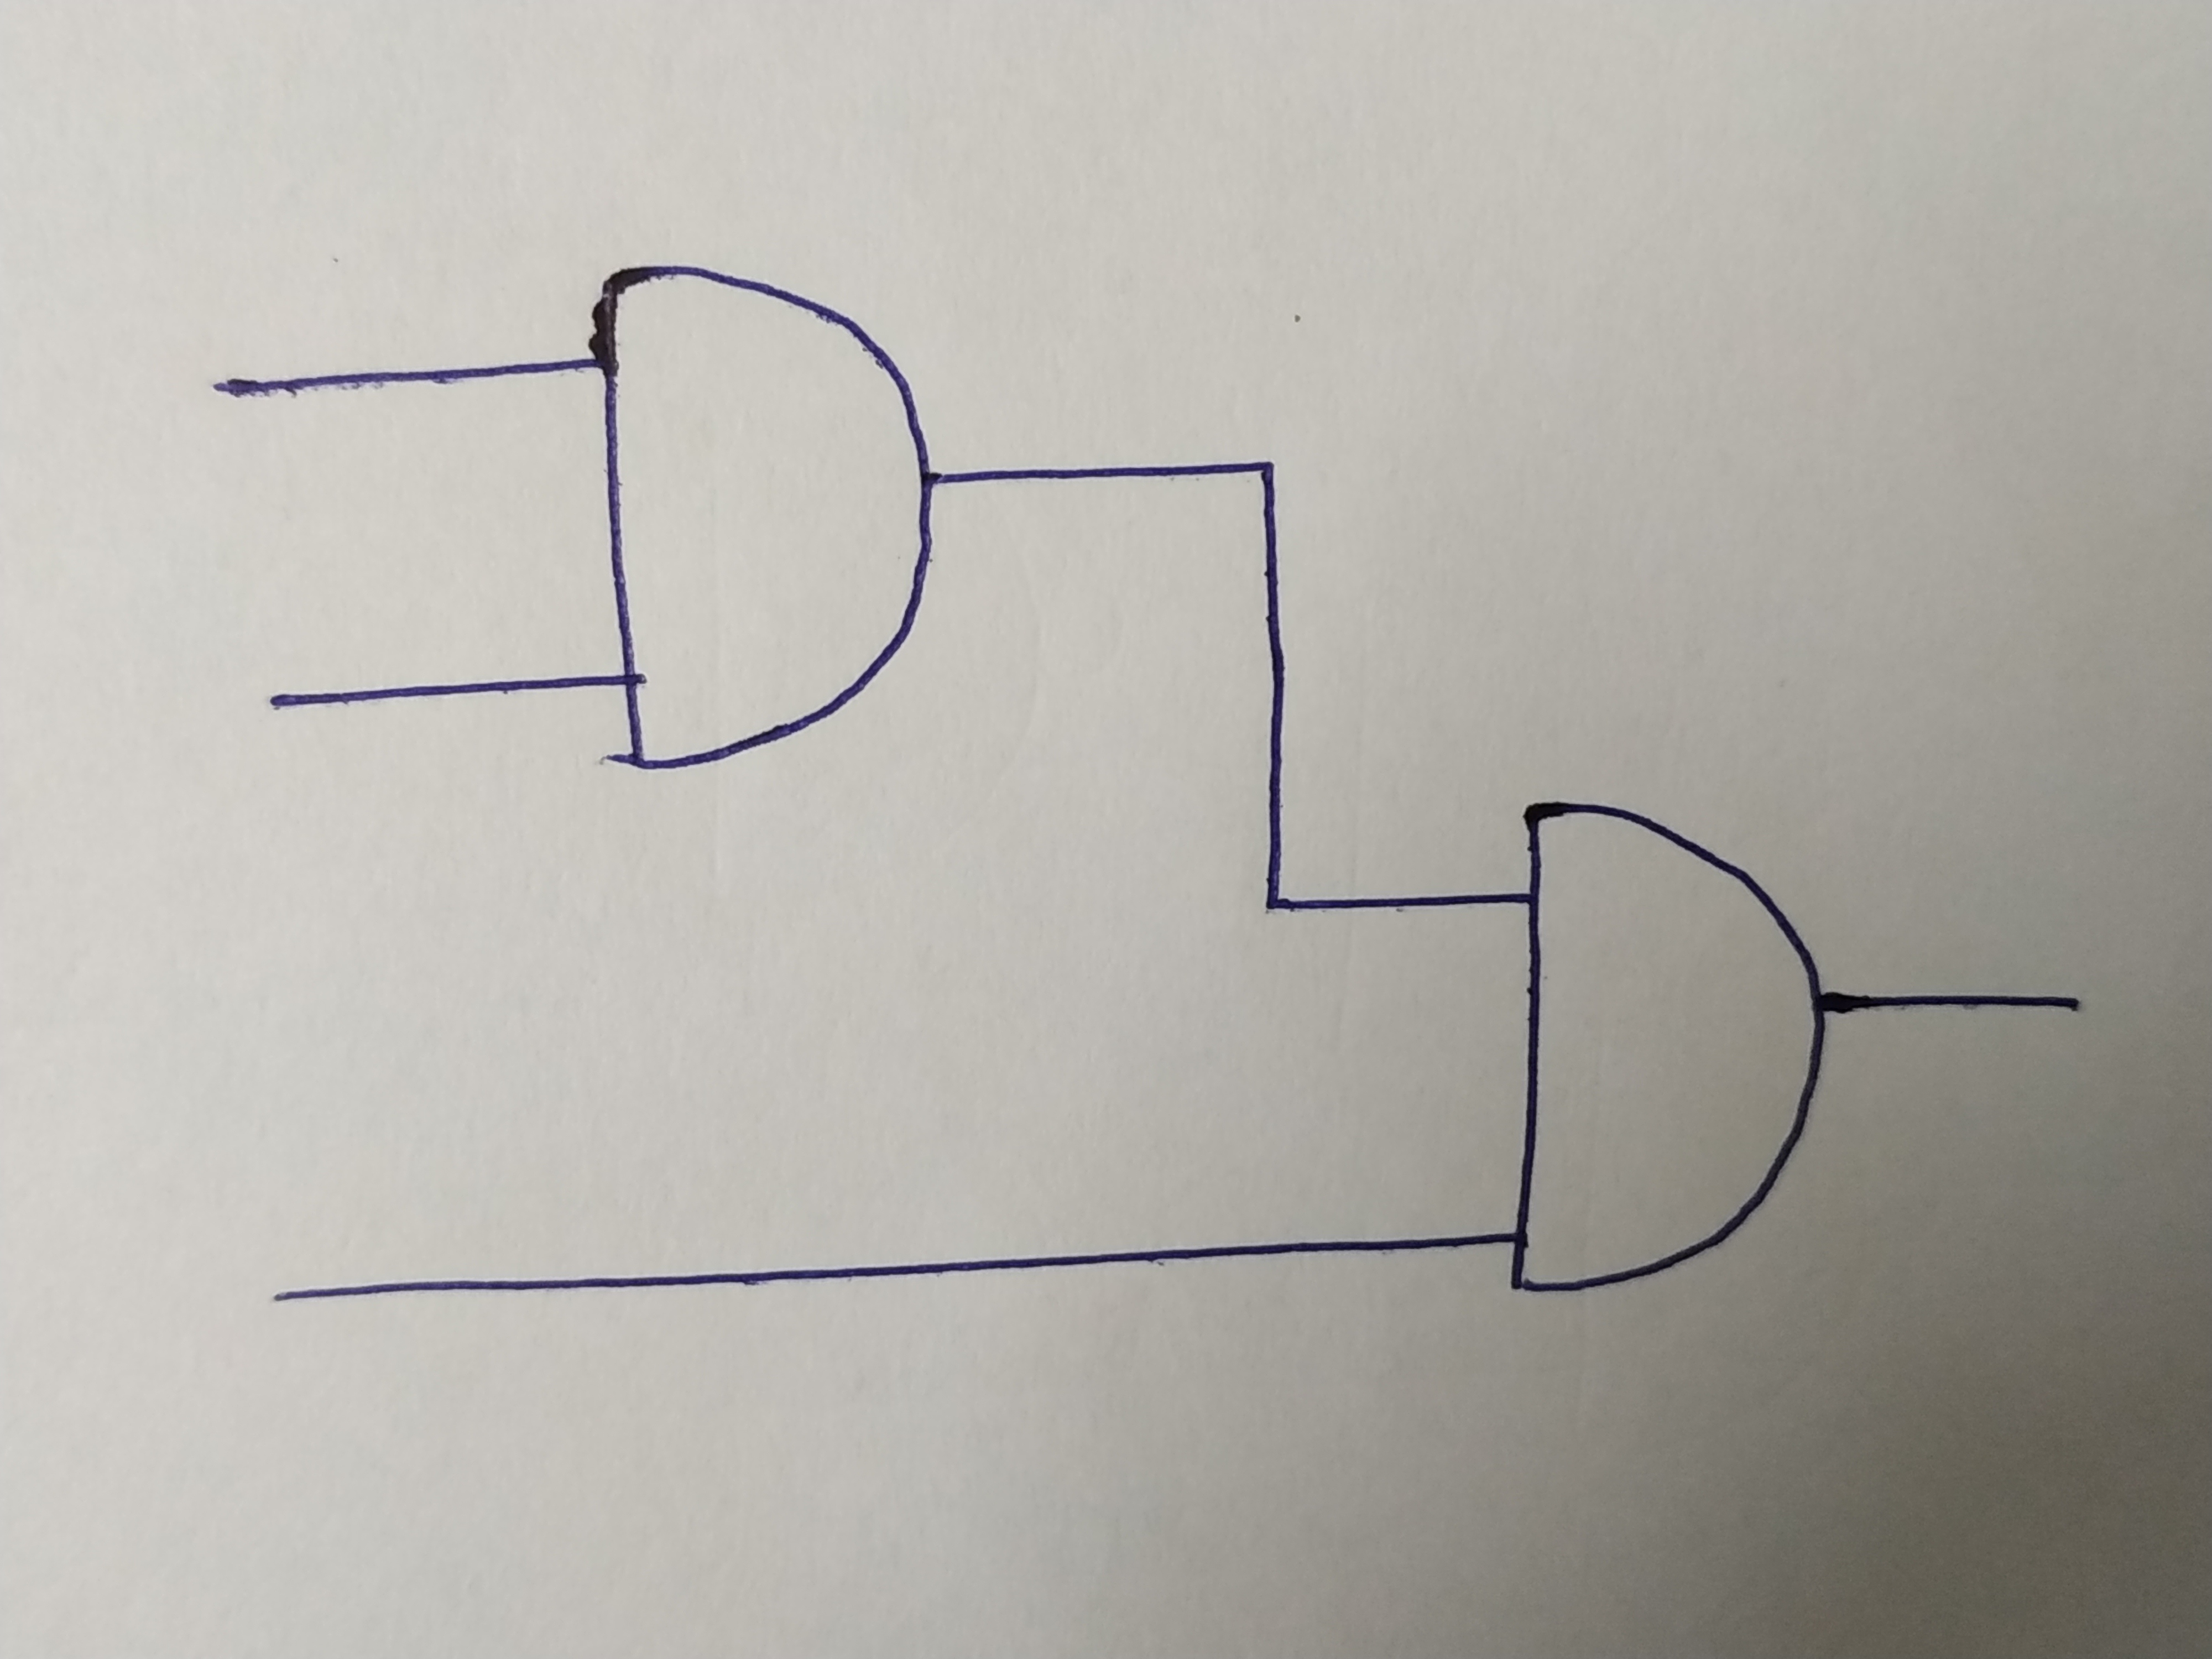and: (1519, 789, 1832, 1295), (610, 267, 927, 765)
